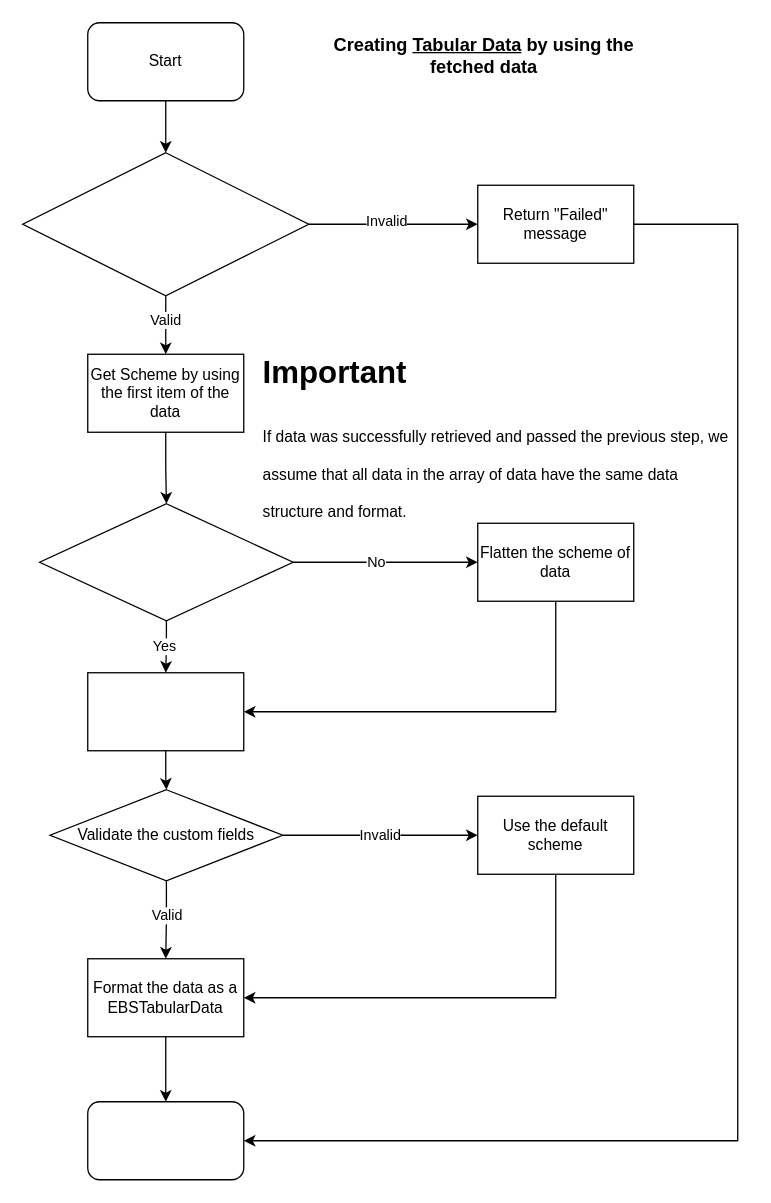
The diagram is 771 pixels wide and 1203 high, and some of its shapes have lost their labels. Each missing label, with the box of its shape:
Check structure of the fetched data: (21, 151, 309, 296)
End: (86, 1100, 244, 1180)
Flatten the scheme of data and user defined fields: (86, 671, 244, 751)
Is there a user defined fields?: (38, 502, 293, 621)
